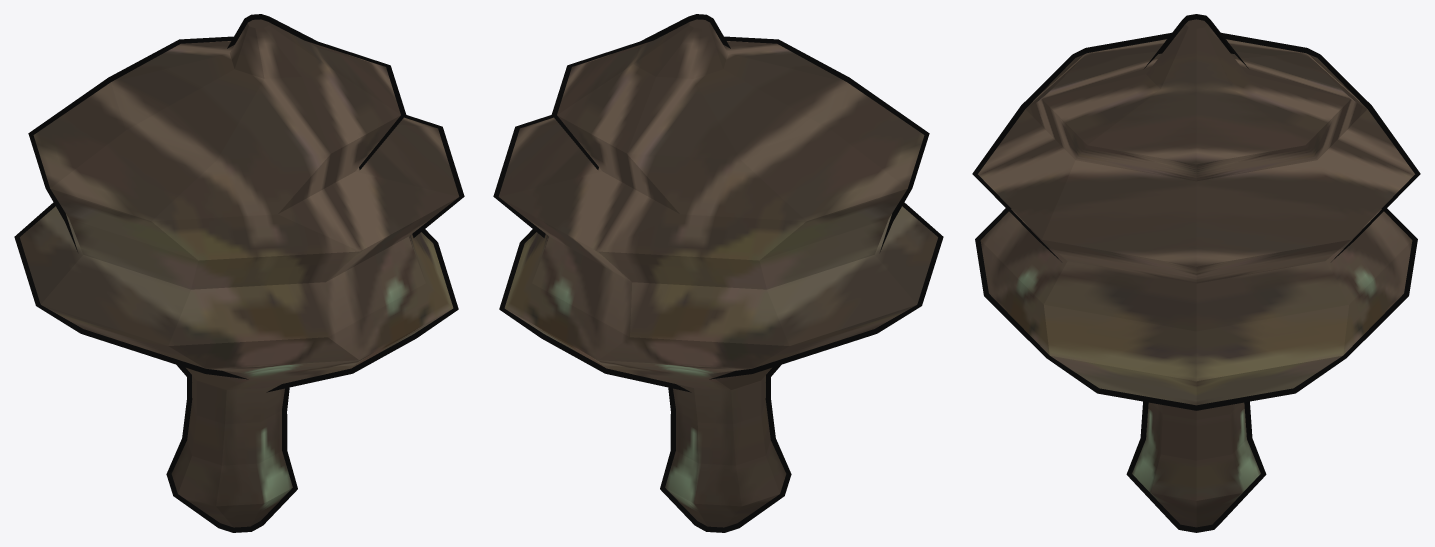
File: Plant_Plant_Witchwood_Things_Plant_Witchwood_WitchwoodA.glb
3 views of the same model, side by side, from view 1: azimuth 30°, elevation 25°; view 2: azimuth 150°, elevation 25°; view 3: azimuth 270°, elevation 25° (orthographic). The views are drawn at different scales.
Parts seen in each view (by area): view 1: Body, Outline; view 2: Body, Outline; view 3: Body, Outline.
Boxes of the visible parts, x1,y1,x2,y2 form: Body: [20, 19, 459, 527]; Outline: [14, 14, 464, 532]; Body: [498, 19, 937, 527]; Outline: [493, 14, 943, 532]; Body: [978, 19, 1414, 527]; Outline: [972, 14, 1420, 532].
Bounding box in the file's own units: 0.6718 × 0.7891 × 0.6248.
Materials: 2 (1 with a texture image).
